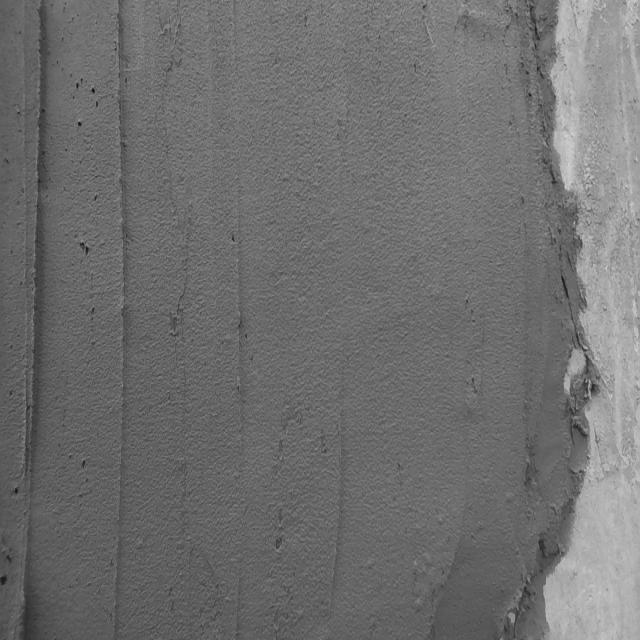trowels marks: (19, 3, 47, 640), (108, 1, 133, 640), (325, 396, 348, 616), (232, 174, 247, 468)
